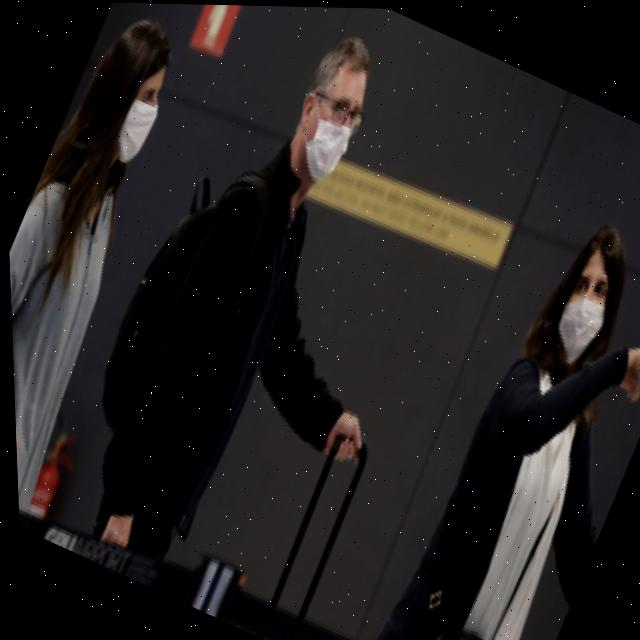Mask: (274, 84, 364, 188), (539, 275, 616, 368), (100, 83, 168, 173)
